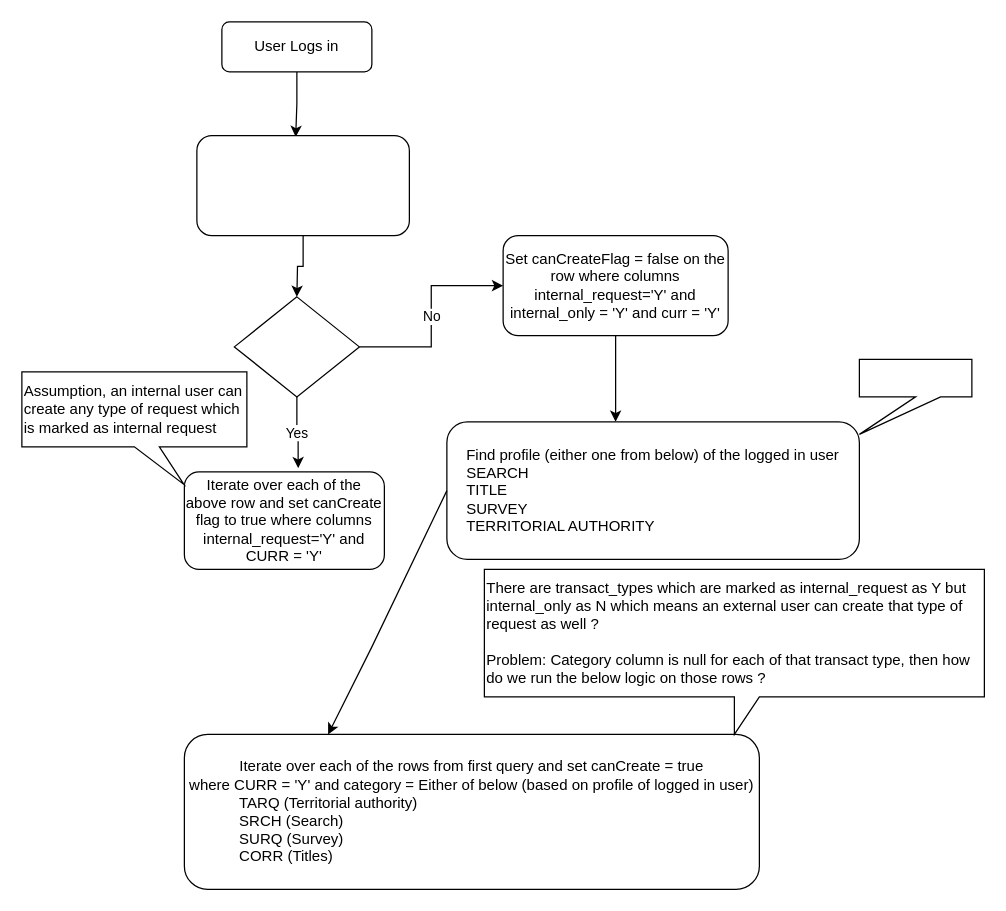
Some shapes in this 1006 by 911 pixel diagram are drawn without their labels. The shapes that lost their labels are listed below. From the top down, each one's box as (x1, y1, x2, y2) in pixels, then its label:
(196, 134, 409, 236): select type, internal_request from crs_transact_Type where grp = 'REQT
(233, 296, 359, 397): Internal User
(858, 358, 972, 434): HOW ?
